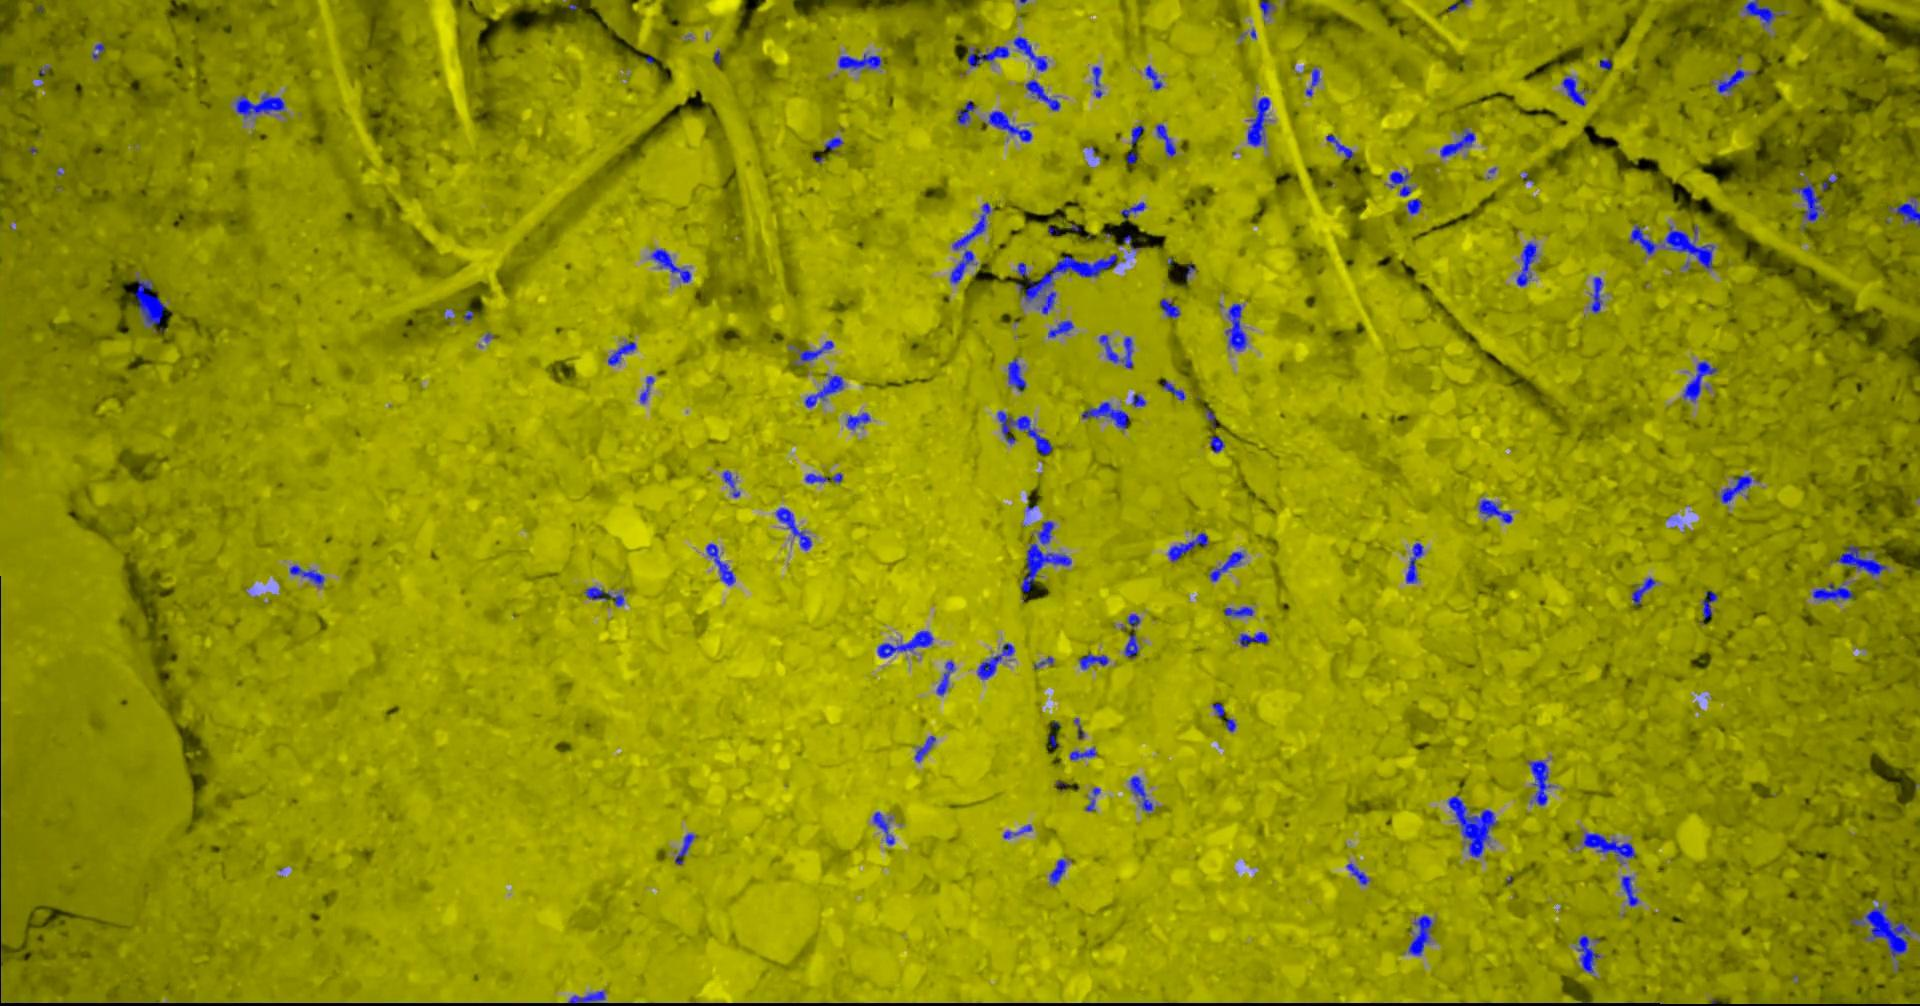ant: (1628, 225, 1714, 269), (1020, 520, 1070, 592), (949, 202, 990, 283), (997, 410, 1051, 453), (775, 507, 811, 550), (1836, 544, 1886, 575), (876, 630, 933, 657), (135, 278, 165, 325), (977, 641, 1013, 680), (1683, 361, 1717, 401), (234, 91, 284, 118), (650, 248, 690, 282), (1583, 832, 1636, 857), (988, 111, 1031, 141), (705, 542, 735, 586), (1012, 36, 1048, 71), (1081, 401, 1128, 428), (1792, 182, 1823, 221), (804, 375, 843, 406), (1167, 532, 1208, 561), (1098, 334, 1131, 368), (1025, 79, 1059, 111), (1439, 127, 1476, 156), (1247, 97, 1269, 146), (1528, 760, 1550, 805), (1208, 551, 1243, 580), (792, 340, 833, 365), (1408, 915, 1432, 955), (1719, 473, 1751, 503), (1515, 241, 1537, 286), (1225, 304, 1246, 351), (966, 44, 1010, 66), (1576, 935, 1600, 973), (1888, 199, 1919, 227), (1743, 0, 1775, 25), (584, 586, 623, 606), (1478, 499, 1512, 522), (1129, 776, 1152, 810), (1404, 542, 1423, 583), (290, 564, 324, 586), (872, 810, 894, 845), (1812, 582, 1853, 600), (1561, 76, 1585, 105), (1716, 69, 1746, 91), (1326, 133, 1352, 159), (607, 340, 635, 365), (1630, 577, 1655, 605), (838, 53, 880, 69), (1156, 123, 1175, 156), (674, 833, 695, 864), (1007, 358, 1025, 391), (936, 661, 954, 694), (1388, 170, 1411, 196), (568, 989, 604, 1005), (1078, 652, 1109, 669), (1620, 875, 1638, 906), (1702, 589, 1717, 624), (914, 735, 935, 761), (1048, 857, 1067, 884), (1590, 276, 1603, 312), (1346, 862, 1368, 884), (1162, 379, 1185, 399), (1238, 631, 1269, 647), (956, 100, 975, 124), (723, 470, 739, 497), (1120, 202, 1145, 218), (1048, 320, 1073, 337), (846, 412, 869, 429), (1145, 65, 1162, 89), (1305, 69, 1319, 97), (639, 375, 653, 403), (1003, 824, 1031, 838), (804, 473, 842, 483), (1159, 298, 1178, 318), (1124, 633, 1138, 658), (1069, 747, 1096, 760), (1084, 788, 1098, 810), (1821, 171, 1837, 191), (1092, 66, 1102, 97), (1223, 606, 1253, 616), (1209, 434, 1224, 452), (1258, 0, 1274, 17), (1131, 124, 1143, 145), (824, 137, 842, 150), (1407, 198, 1421, 213), (91, 43, 104, 58), (1131, 394, 1145, 406), (1211, 702, 1224, 716), (1128, 614, 1139, 627), (1126, 151, 1138, 164), (1017, 262, 1027, 276), (1225, 716, 1236, 730), (1599, 58, 1611, 69)
